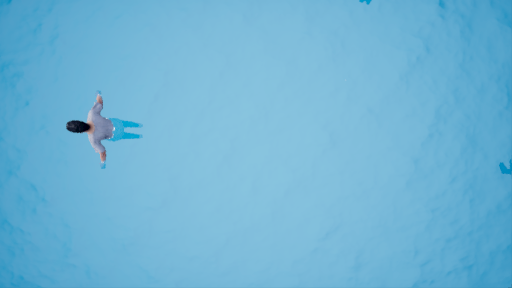person: (72, 89, 142, 169)
